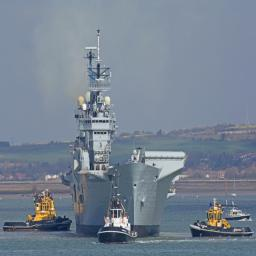Portanaves: (64, 33, 188, 240)
